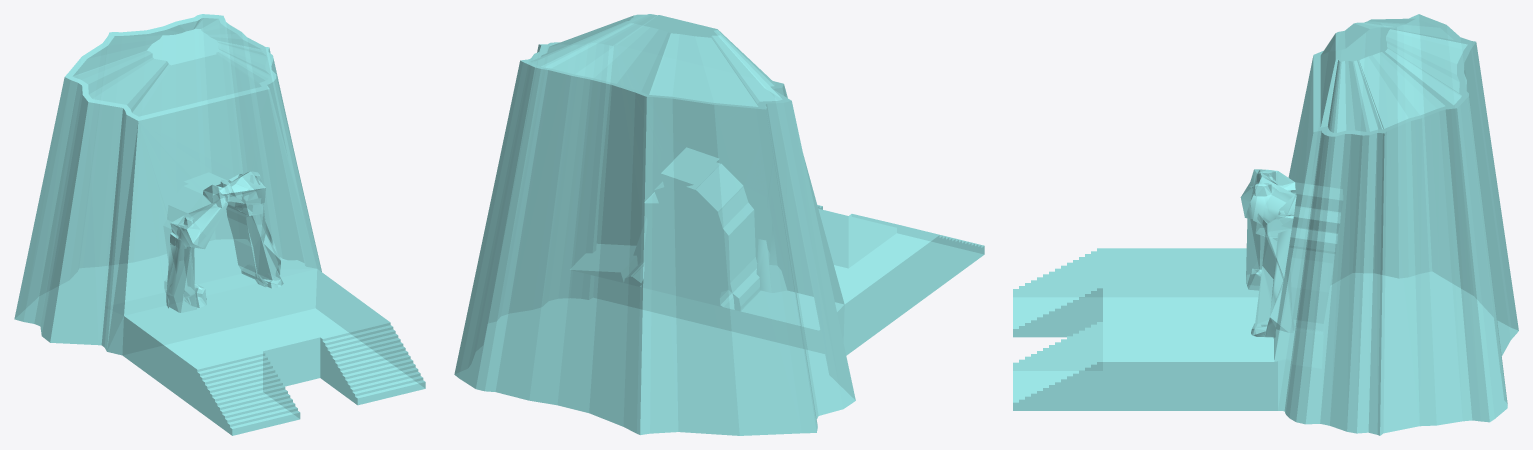
Rendered from Ice_Palace_01.fbx.
3 renders of one model, left to right at view 1: azimuth 30°, elevation 25°; view 2: azimuth 150°, elevation 25°; view 3: azimuth 270°, elevation 25°, orthographic. The views are drawn at different scales.
Visible parts, largest first — view 1: Model; view 2: Model; view 3: Model.
Boxes of the visible parts, x1,y1,x2,y2 form: Model: [14, 14, 425, 435]; Model: [454, 14, 984, 435]; Model: [1013, 14, 1518, 435].
Size of the model in its own units: 2081 by 1881 by 2703.
